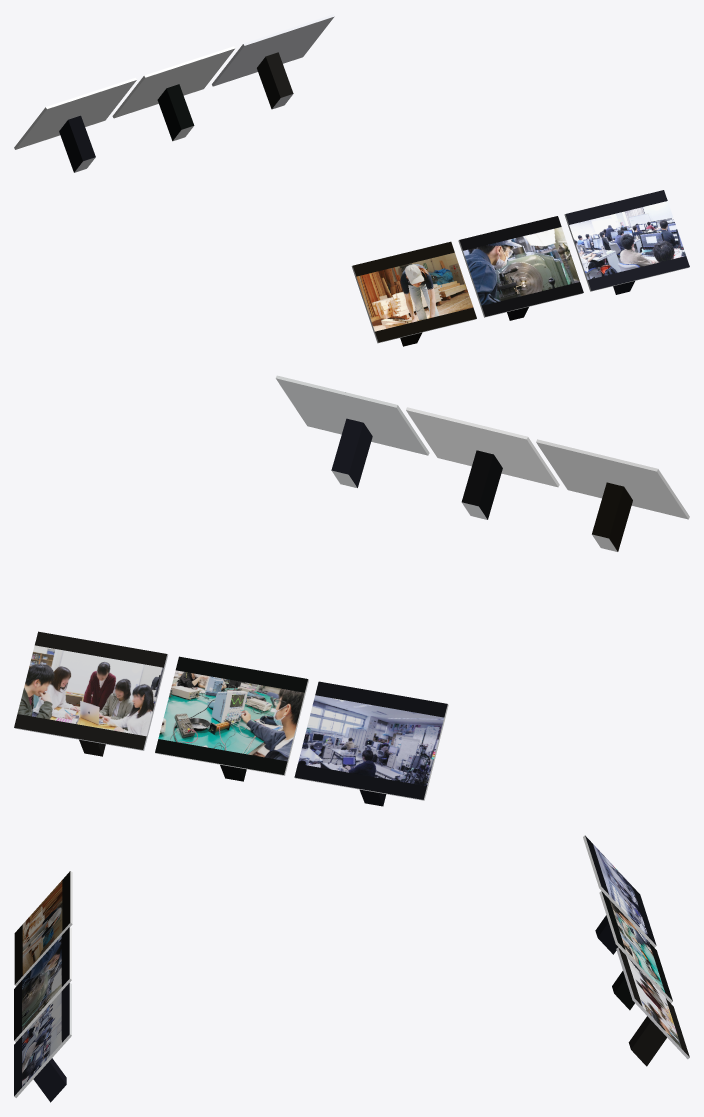
The model's file is yahaba_picture.glb.
3 renders of one model, top to bottom at view 1: azimuth 30°, elevation 25°; view 2: azimuth 150°, elevation 25°; view 3: azimuth 270°, elevation 25°, orthographic. The views are drawn at different scales.
Parts seen in each view (by area): view 1: 立方体.024, 立方体.033, 立方体.034, 立方体.025, 立方体.028, 立方体.035; view 2: 立方体.025, 立方体.028, 立方体.035, 立方体.033, 立方体.034, 立方体.024; view 3: 立方体.034, 立方体.035, 立方体.033, 立方体.024, 立方体.025, 立方体.028.
Boxes of the visible parts, bbox=[...] form: 立方体.024: bbox=[458, 216, 583, 320]; 立方体.033: bbox=[351, 241, 476, 346]; 立方体.034: bbox=[564, 190, 689, 294]; 立方体.025: bbox=[112, 46, 235, 141]; 立方体.028: bbox=[14, 77, 136, 172]; 立方体.035: bbox=[212, 14, 334, 109]; 立方体.025: bbox=[155, 656, 308, 781]; 立方体.028: bbox=[294, 681, 448, 806]; 立方体.035: bbox=[14, 631, 168, 756]; 立方体.033: bbox=[536, 439, 689, 551]; 立方体.034: bbox=[275, 375, 429, 488]; 立方体.024: bbox=[406, 407, 559, 519]; 立方体.034: bbox=[14, 982, 71, 1102]; 立方体.035: bbox=[616, 947, 689, 1066]; 立方体.033: bbox=[14, 871, 72, 985]; 立方体.024: bbox=[14, 927, 71, 1041]; 立方体.025: bbox=[599, 891, 672, 1010]; 立方体.028: bbox=[583, 835, 656, 954].
Size of the model in its own units: 26.78 by 5.63 by 37.87.
6 materials, 6 textured.
